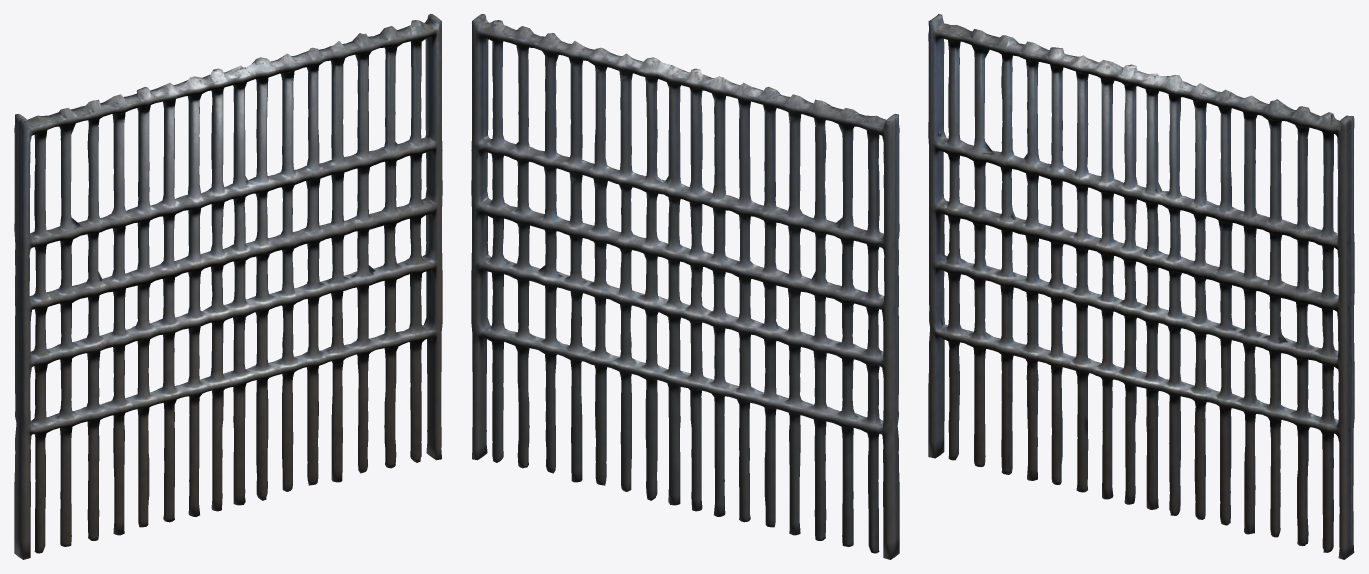
The model's file is Thick_prison_bars_whi_1226100137_texture.fbx.
The picture shows the model from 3 angles, left to right: view 1: azimuth 30°, elevation 25°; view 2: azimuth 150°, elevation 25°; view 3: azimuth 330°, elevation 25°; orthographic projection.
Visible parts, largest first — view 1: Mesh1_Mesh1.004; view 2: Mesh1_Mesh1.004; view 3: Mesh1_Mesh1.004.
Part boxes in pixels (left/top/right/bottom): Mesh1_Mesh1.004: left=14, top=14, right=442, bottom=559; Mesh1_Mesh1.004: left=471, top=14, right=899, bottom=559; Mesh1_Mesh1.004: left=928, top=14, right=1354, bottom=559.
Size of the model in its own units: 200 by 201 by 10.64.
Materials: 1 (1 with a texture image).
